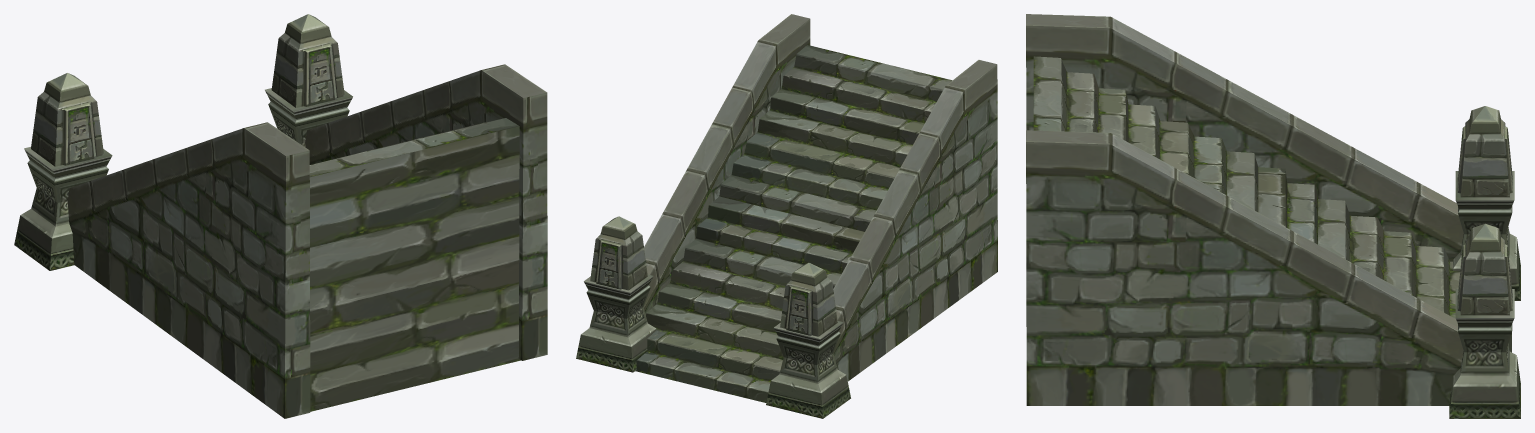
File: ForsakenTemple_stair.FBX
3 renders of one model, left to right at view 1: azimuth 30°, elevation 25°; view 2: azimuth 150°, elevation 25°; view 3: azimuth 270°, elevation 25°, orthographic. The views are drawn at different scales.
Visible parts, largest first — view 1: ForsakenTemple_stair; view 2: ForsakenTemple_stair; view 3: ForsakenTemple_stair.
Boxes of the visible parts, x1,y1,x2,y2 form: ForsakenTemple_stair: [14, 14, 547, 418]; ForsakenTemple_stair: [576, 14, 997, 418]; ForsakenTemple_stair: [1026, 14, 1520, 418].
Bounding box in the file's own units: 221 × 179 × 301.
